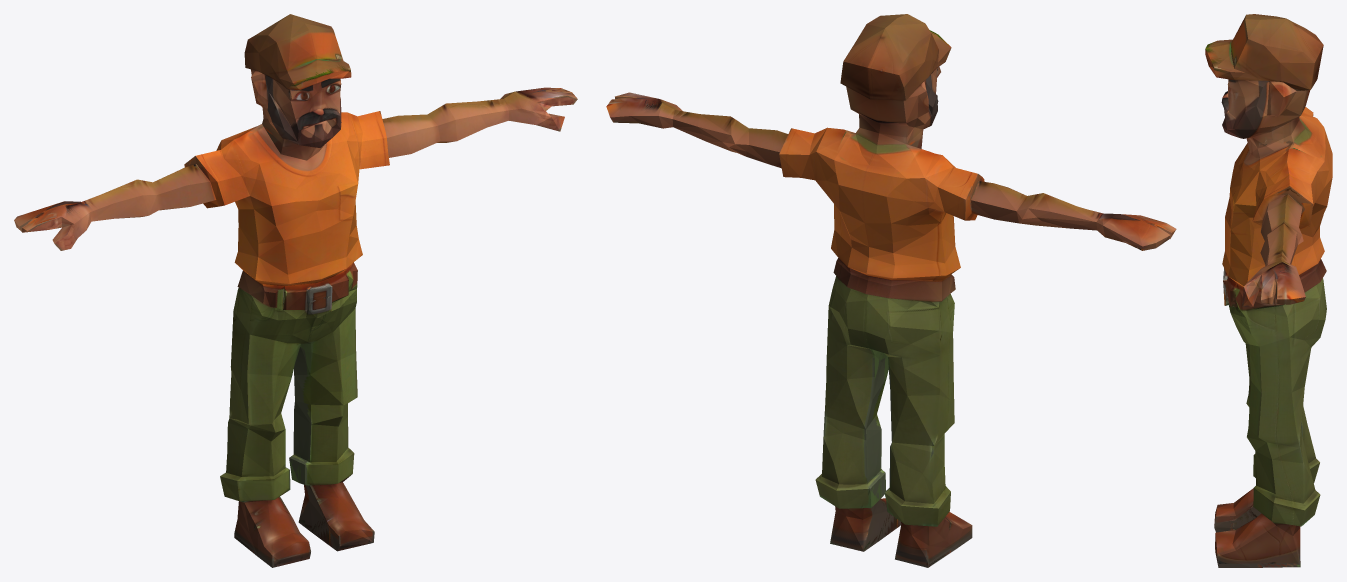
File: Low_Poly_Character_Mo_0607032755_texture.fbx
The picture shows the model from 3 angles, left to right: view 1: azimuth 30°, elevation 25°; view 2: azimuth 150°, elevation 25°; view 3: azimuth 270°, elevation 25°; orthographic projection.
Parts seen in each view (by area): view 1: temp; view 2: temp; view 3: temp.
Part boxes in pixels (box(x1,y1,x2,y2)): temp: box(14, 14, 577, 567); temp: box(606, 14, 1176, 567); temp: box(1205, 14, 1332, 567).
Size of the model in its own units: 201 by 180 by 39.5.
1 material, 1 textured.
